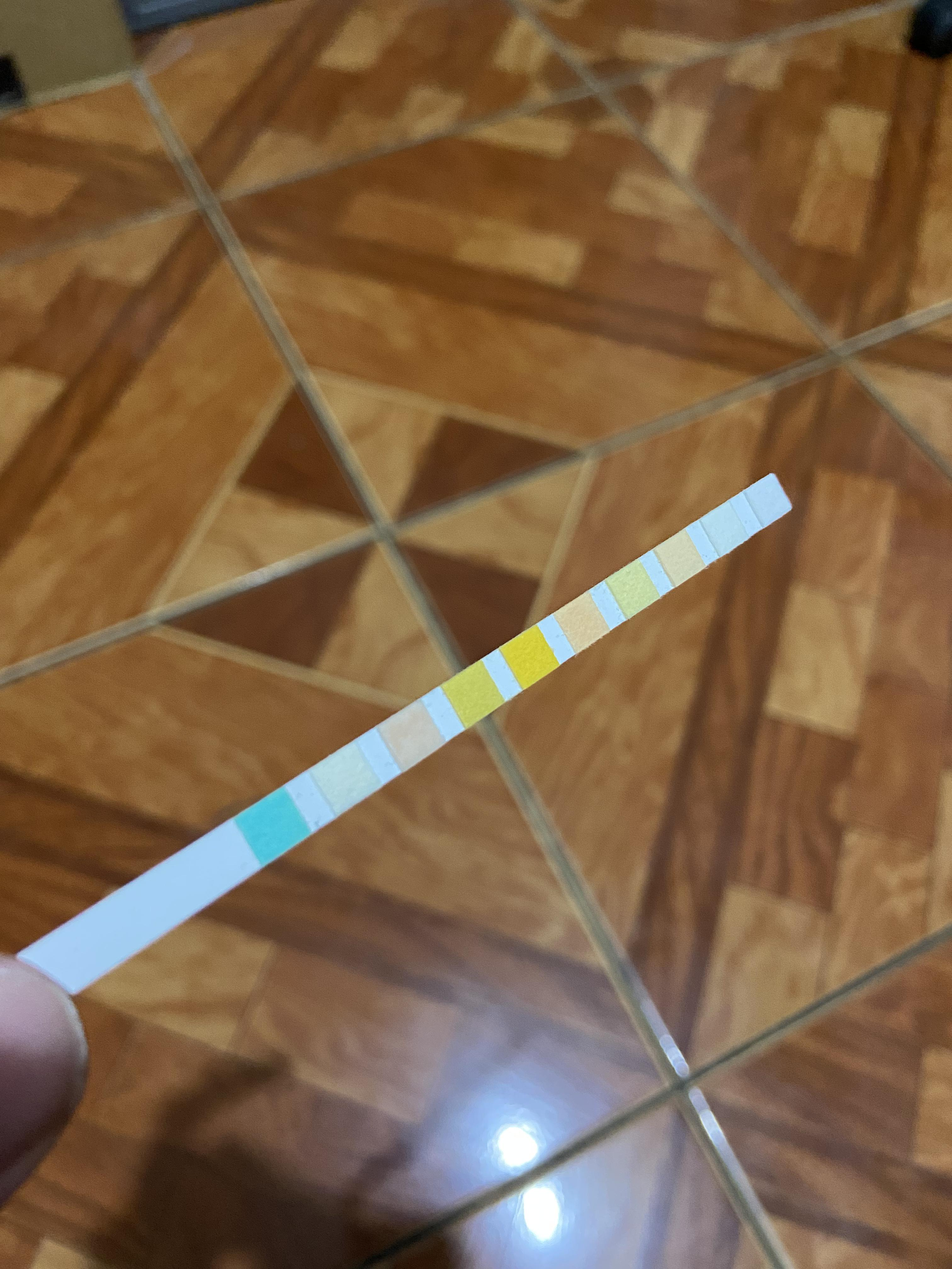Bilirubin: (323, 760, 368, 796)
Blood: (512, 639, 546, 676)
Glucose: (252, 804, 296, 846)
Ketone: (392, 716, 431, 755)
Leukocytes: (750, 486, 782, 508)
Nitrite: (711, 511, 736, 543)
Protein: (617, 571, 648, 605)
SpGravity: (456, 675, 491, 713)
Urobilinogen: (665, 540, 693, 573)
pH: (566, 604, 596, 641)
strip: (53, 473, 796, 986)
